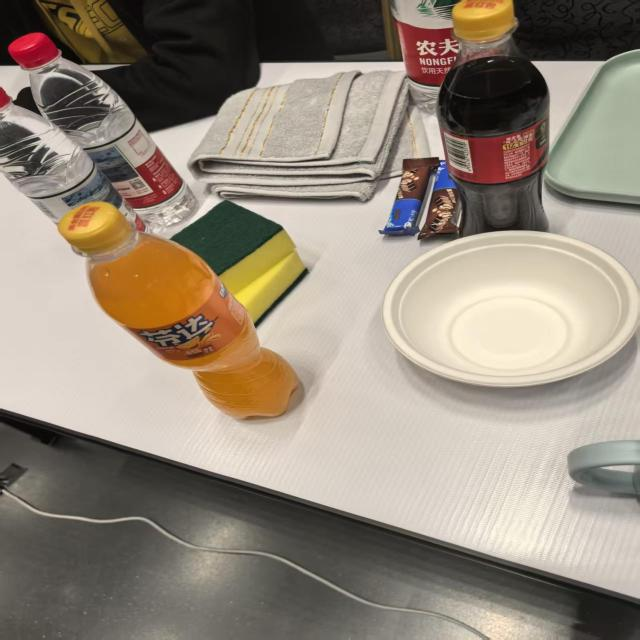orange: (133, 313, 219, 359)
